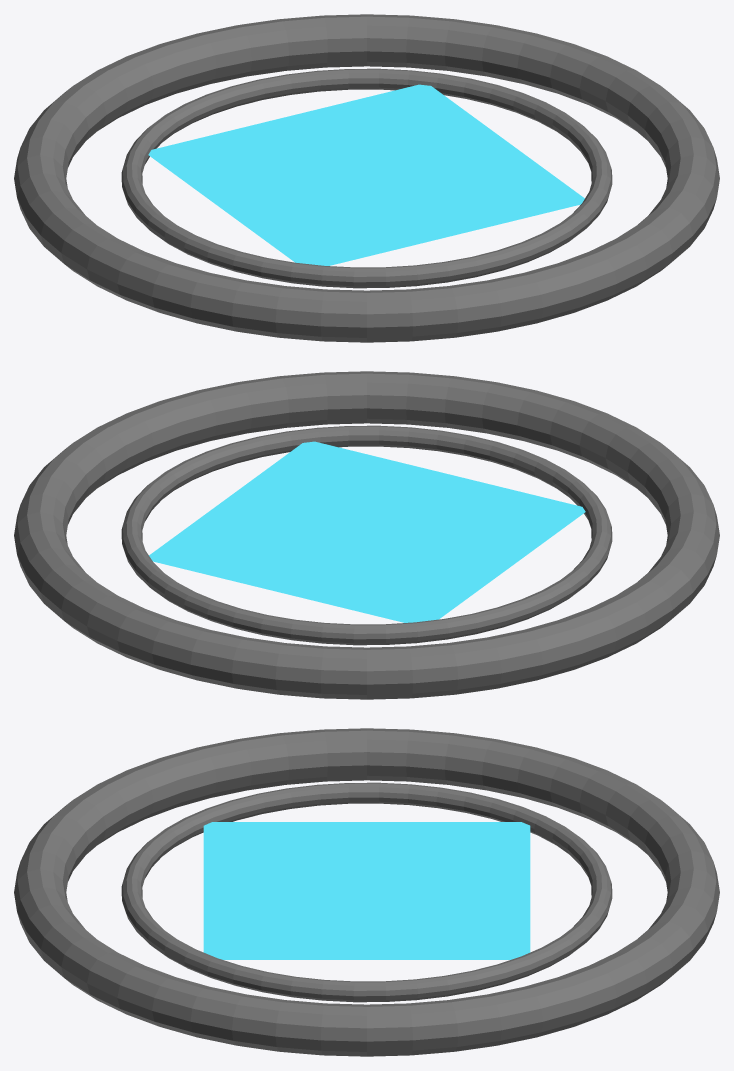
Rendered from portal_gate.glb.
The picture shows the model from 3 angles, top to bottom: view 1: azimuth 30°, elevation 25°; view 2: azimuth 150°, elevation 25°; view 3: azimuth 270°, elevation 25°; orthographic projection.
Visible parts, largest first — view 1: OuterRing, PortalSurface, InnerRing; view 2: OuterRing, PortalSurface, InnerRing; view 3: OuterRing, PortalSurface, InnerRing.
Part boxes in pixels (x1=…): OuterRing: x1=14, y1=14, x2=719, y2=342; PortalSurface: x1=148, y1=84, x2=584, y2=265; InnerRing: x1=121, y1=68, x2=612, y2=288; OuterRing: x1=14, y1=371, x2=719, y2=699; PortalSurface: x1=149, y1=441, x2=585, y2=622; InnerRing: x1=121, y1=425, x2=612, y2=645; OuterRing: x1=14, y1=728, x2=719, y2=1056; PortalSurface: x1=203, y1=822, x2=530, y2=959; InnerRing: x1=121, y1=782, x2=612, y2=1002.
Bounding box in the file's own units: 5.4 × 0.4 × 5.4.
